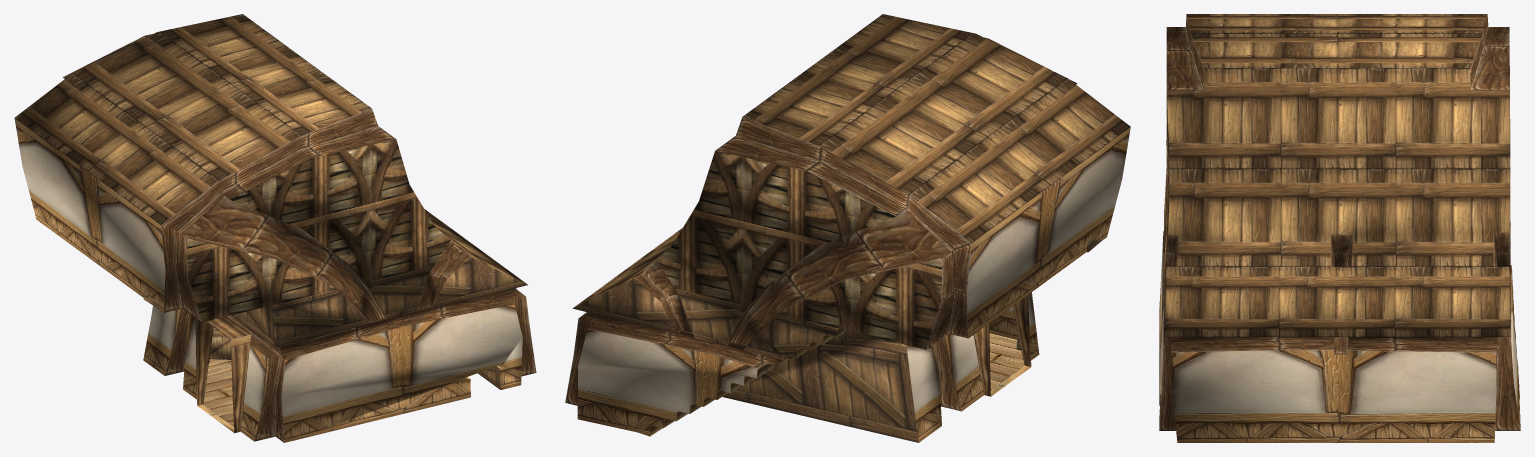
Rendered from stormwind_072.fbx.
The picture shows the model from 3 angles, left to right: view 1: azimuth 30°, elevation 25°; view 2: azimuth 150°, elevation 25°; view 3: azimuth 270°, elevation 25°; orthographic projection. The views are drawn at different scales.
Parts seen in each view (by area): view 1: stormwind_072_55, stormwind_072_48, stormwind_072_49, stormwind_072_53, stormwind_072_56, stormwind_072_51, stormwind_072_59; view 2: stormwind_072_55, stormwind_072_48, stormwind_072_49, stormwind_072_53, stormwind_072_56, stormwind_072_51; view 3: stormwind_072_55, stormwind_072_48, stormwind_072_53, stormwind_072_56, stormwind_072_49.
Boxes of the visible parts, x1=… form: stormwind_072_55: x1=14, y1=14, x2=527, y2=284; stormwind_072_48: x1=14, y1=118, x2=522, y2=442; stormwind_072_49: x1=187, y1=139, x2=450, y2=433; stormwind_072_53: x1=63, y1=33, x2=536, y2=442; stormwind_072_56: x1=232, y1=257, x2=527, y2=389; stormwind_072_51: x1=203, y1=359, x2=233, y2=426; stormwind_072_59: x1=39, y1=221, x2=231, y2=362; stormwind_072_55: x1=573, y1=14, x2=1130, y2=307; stormwind_072_48: x1=577, y1=127, x2=1130, y2=442; stormwind_072_49: x1=657, y1=151, x2=1031, y2=396; stormwind_072_53: x1=565, y1=37, x2=1077, y2=436; stormwind_072_56: x1=572, y1=278, x2=918, y2=442; stormwind_072_51: x1=989, y1=333, x2=1024, y2=389; stormwind_072_55: x1=1164, y1=14, x2=1510, y2=336; stormwind_072_48: x1=1159, y1=236, x2=1520, y2=442; stormwind_072_53: x1=1159, y1=15, x2=1520, y2=430; stormwind_072_56: x1=1159, y1=168, x2=1510, y2=405; stormwind_072_49: x1=1166, y1=65, x2=1510, y2=245.
Bounding box in the file's own units: 18.05 × 13.56 × 14.85.
